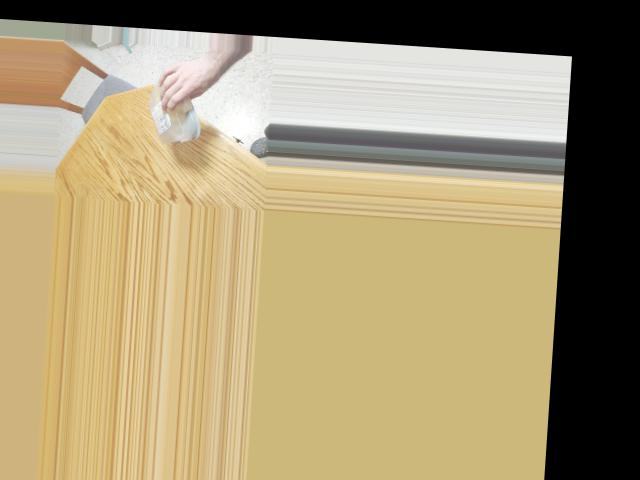cheese: (150, 83, 196, 138)
